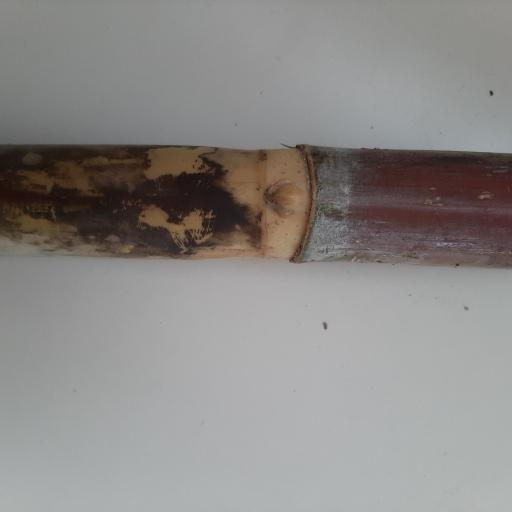Bud: (263, 179, 306, 216)
